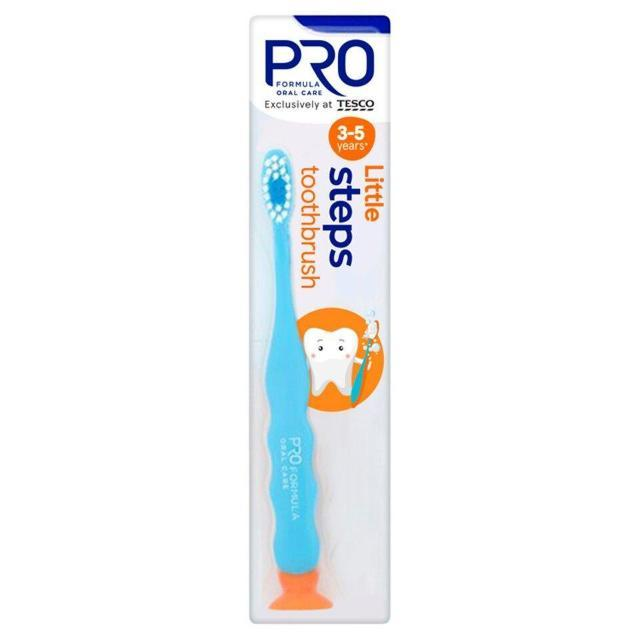toothbrush: (232, 140, 334, 632)
